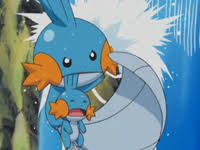mudkip: (25, 1, 166, 150), (51, 74, 92, 145)
